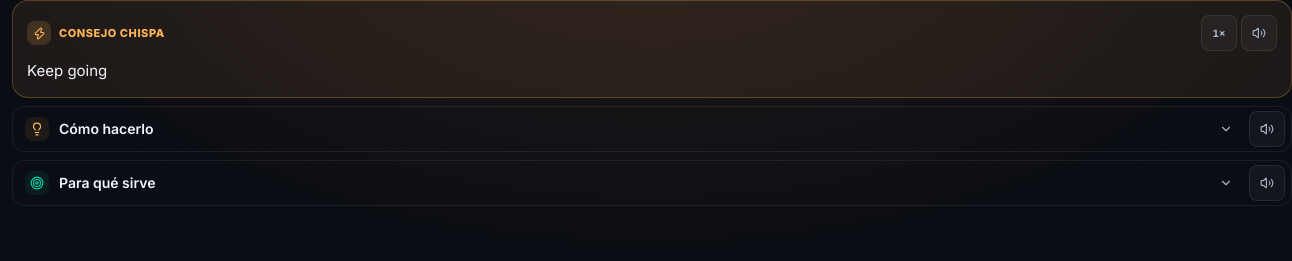
Test: ExerciseExplainer › builds benefits text from primaryMuscles and secondaryMuscles
What coordinates should you click on to do the following:
click the button "Para qué sirve"
I would click on:
 (107, 183)
Its box is [13, 161, 1245, 205].
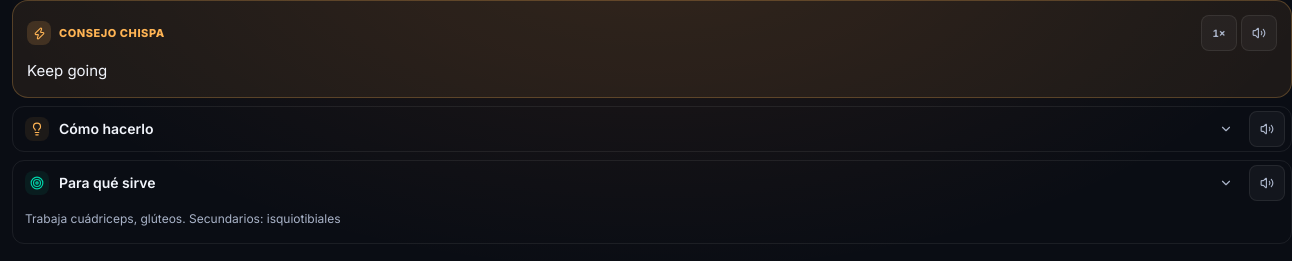
Check: the text "Trabaja cuádriceps, glúteos. Secundarios: isquiotibiales" is shown, box [25, 211, 341, 226]
